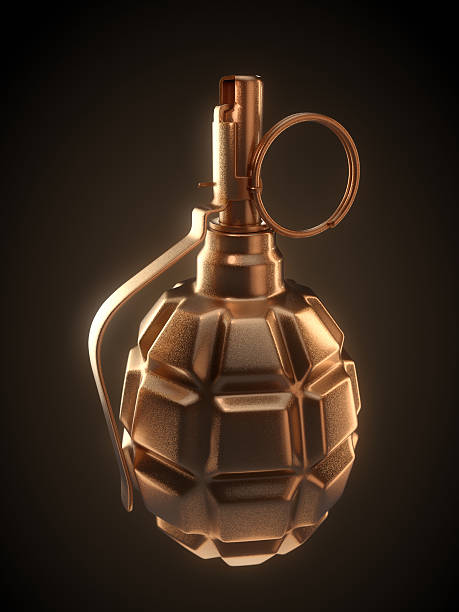e1: (89, 76, 369, 571)
